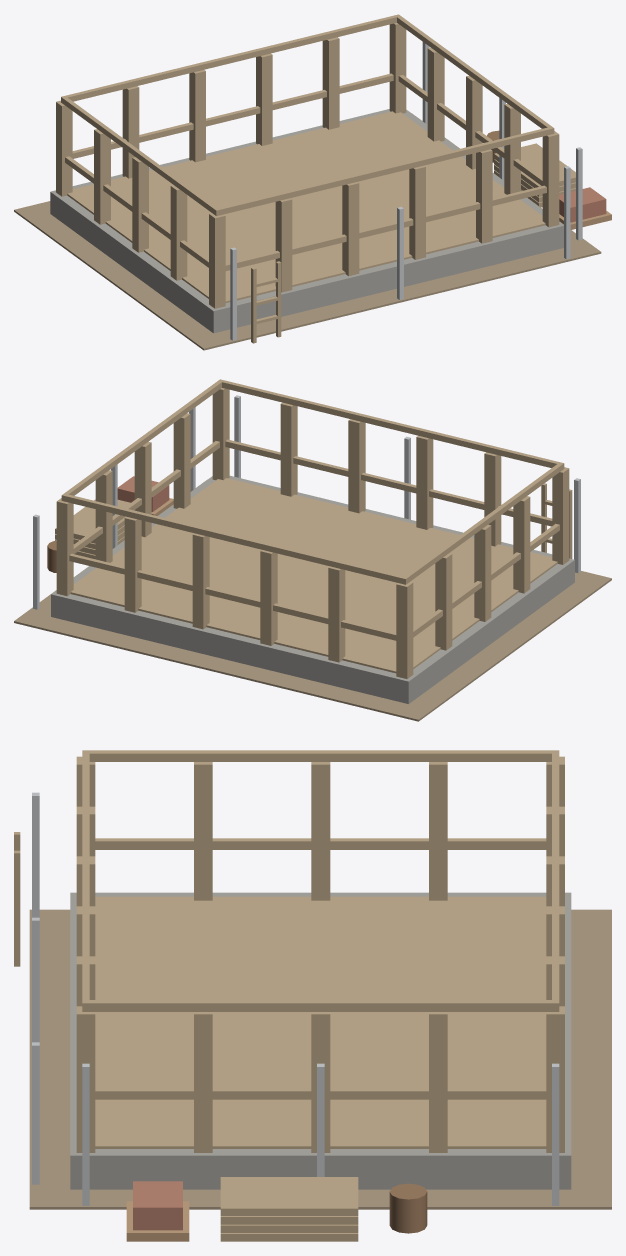
Rendered from horse_stable_site_4.glb.
3 views of the same model, one above another, from view 1: azimuth 30°, elevation 25°; view 2: azimuth 150°, elevation 25°; view 3: azimuth 270°, elevation 25° (orthographic). The views are drawn at different scales.
Visible parts, largest first — view 1: body; view 2: body; view 3: body.
Part boxes in pixels (bbox=[...]): body: bbox=[14, 14, 611, 350]; body: bbox=[14, 379, 611, 721]; body: bbox=[14, 750, 611, 1241].
Bounding box in the file's own units: 2.49 × 0.6492 × 1.91.
